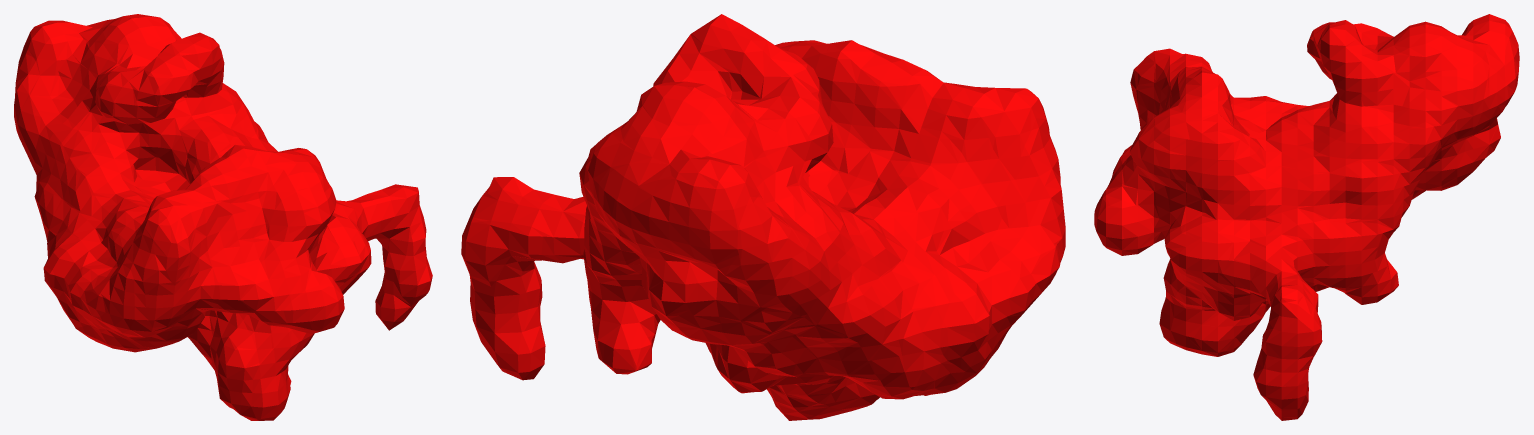
File: yeaG_coarse.dae
3 renders of one model, left to right at view 1: azimuth 30°, elevation 25°; view 2: azimuth 150°, elevation 25°; view 3: azimuth 270°, elevation 25°, orthographic. The views are drawn at different scales.
Visible parts, largest first — view 1: yeaG; view 2: yeaG; view 3: yeaG.
Part boxes in pixels (x1,y1,x2,y2): yeaG: [14, 14, 432, 420]; yeaG: [461, 14, 1065, 420]; yeaG: [1094, 14, 1519, 420].
Bounding box in the file's own units: 93.36 × 78.38 × 91.86.
